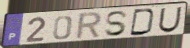0: (52, 15, 74, 40)
2: (24, 16, 47, 44)
D: (129, 8, 157, 37)
R: (74, 11, 104, 41)
S: (104, 10, 130, 38)
U: (157, 6, 184, 34)
